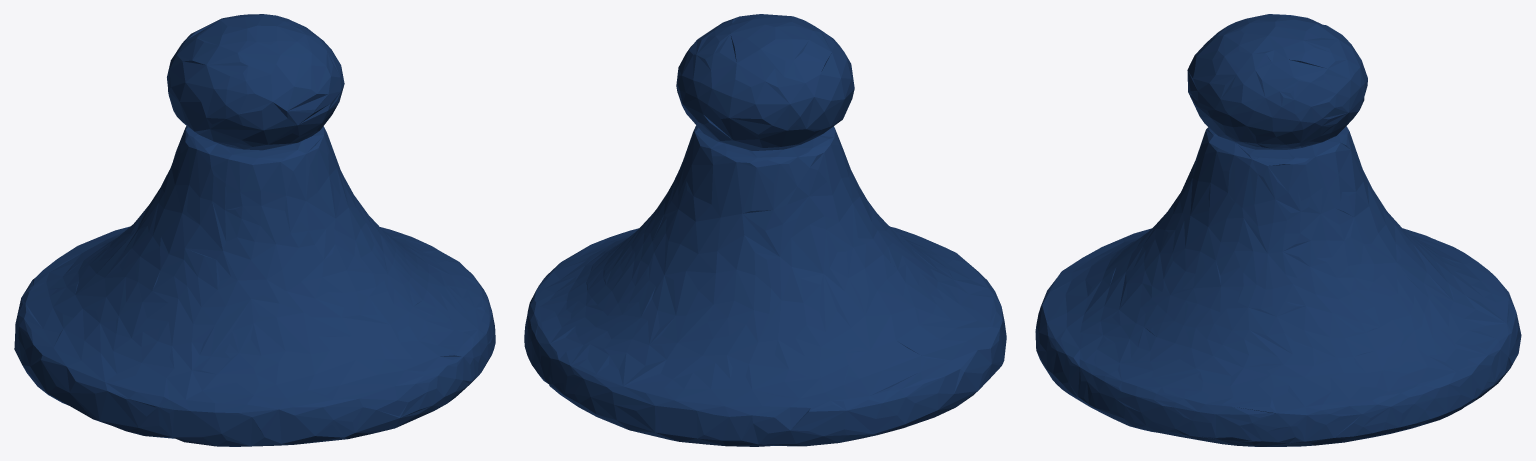
The model's file is pawn_modern_ai.glb.
3 views of the same model, side by side, from view 1: azimuth 30°, elevation 25°; view 2: azimuth 150°, elevation 25°; view 3: azimuth 270°, elevation 25° (orthographic).
Visible parts, largest first — view 1: geometry_0; view 2: geometry_0; view 3: geometry_0.
Boxes of the visible parts, x1,y1,x2,y2 form: geometry_0: (14,14,495,446); geometry_0: (524,14,1006,446); geometry_0: (1035,14,1521,446).
Size of the model in its own units: 0.032 by 0.024 by 0.032.
